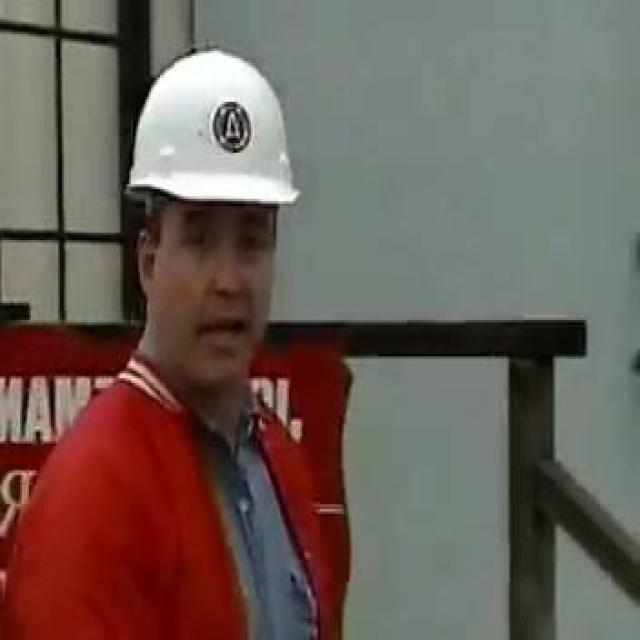Safety-Helmet: (115, 41, 309, 223)
